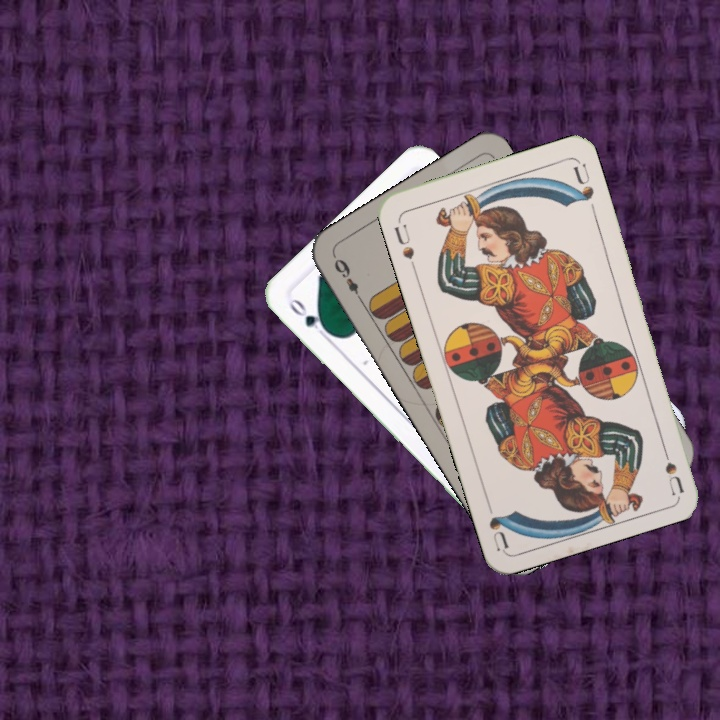E9: (330, 252, 366, 305)
GO: (284, 294, 334, 342)
SU: (657, 437, 686, 496), (390, 220, 419, 273)
